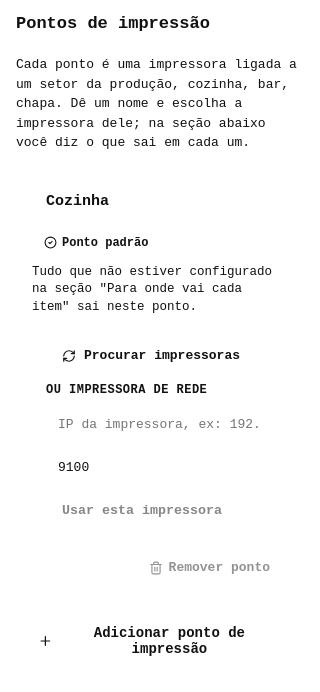
Test case: PontosImpressao, Ponte fechada x Ponte com erro › Ponte fechada mostra a orientação de abrir o KoraPonte.exe
(page scrolled)
Click the button "Procurar impressoras".
click(151, 356)  # box [46,340,256,371]
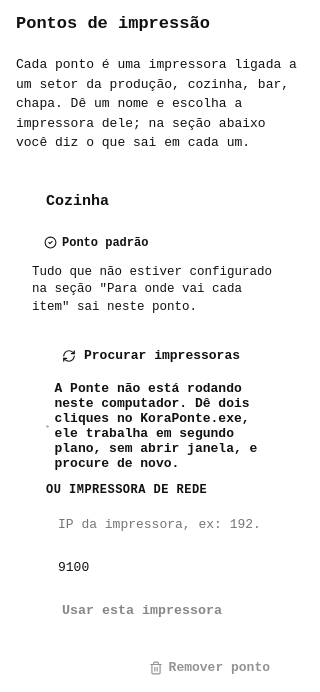
Check: the text "Dê dois cliques no KoraPonte.exe" is shown, box [54,381,257,471]
